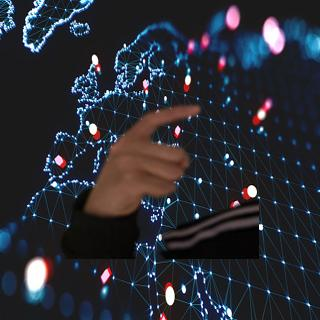WHY: (83, 98, 207, 215)
